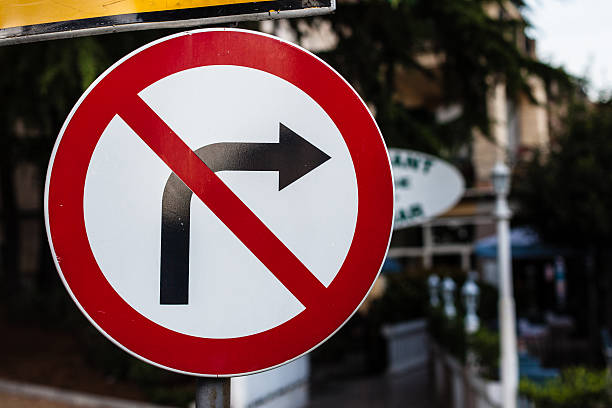saga_donulmez: (44, 29, 396, 374)
